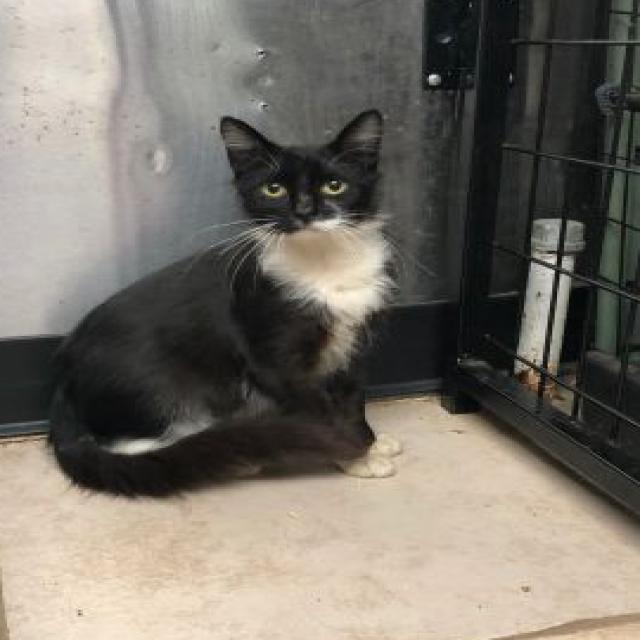Tuxedo: (44, 105, 406, 499)
